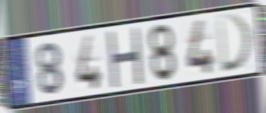4: (186, 17, 216, 76), (75, 34, 103, 92)
8: (147, 22, 177, 82), (35, 41, 65, 95)
D: (215, 12, 255, 75)
H: (106, 27, 144, 89)
